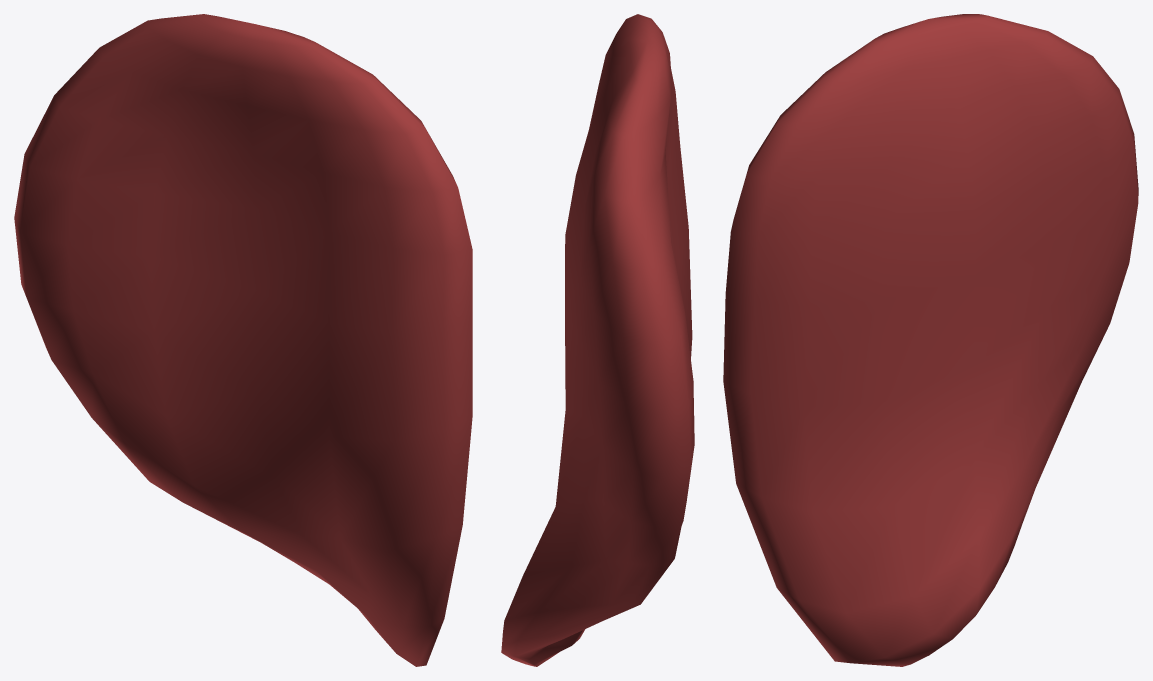
File: subtendinous-bursa-of-iliacus-muscle-l.glb
3 renders of one model, left to right at view 1: azimuth 30°, elevation 25°; view 2: azimuth 150°, elevation 25°; view 3: azimuth 270°, elevation 25°, orthographic. The views are drawn at different scales.
Visible parts, largest first — view 1: Subtendinous bursa of iliacus muscle.l; view 2: Subtendinous bursa of iliacus muscle.l; view 3: Subtendinous bursa of iliacus muscle.l.
Boxes of the visible parts, <box> form: Subtendinous bursa of iliacus muscle.l: <box>14,14,472,666</box>; Subtendinous bursa of iliacus muscle.l: <box>501,14,694,666</box>; Subtendinous bursa of iliacus muscle.l: <box>723,14,1138,666</box>.
Bounding box in the file's own units: 0.00929 × 0.0208 × 0.0132.
